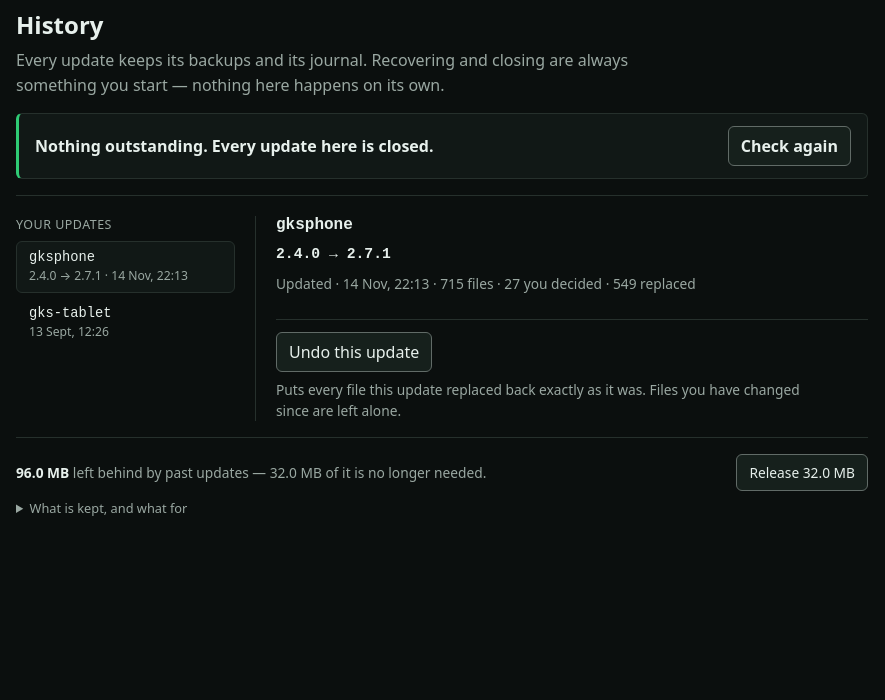
Test: the history screen › reconciles a lost Undo response and never retries the mutation automatically
Click the button "Undo this update" at (354,352), box x1=276 y1=332 x2=432 y2=372
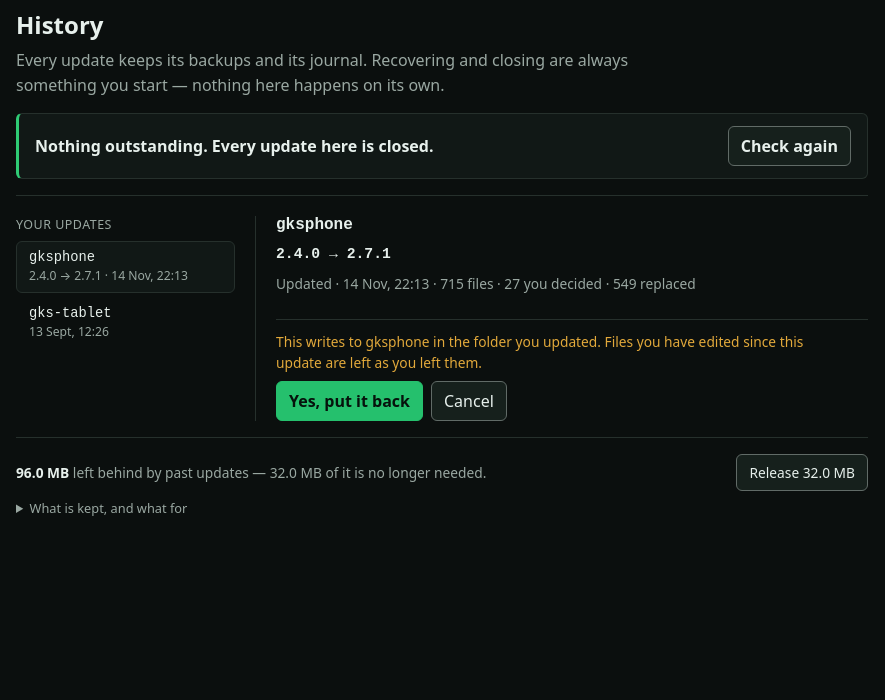
Click the button "Yes, put it back" at (350,401), box x1=276 y1=381 x2=423 y2=421
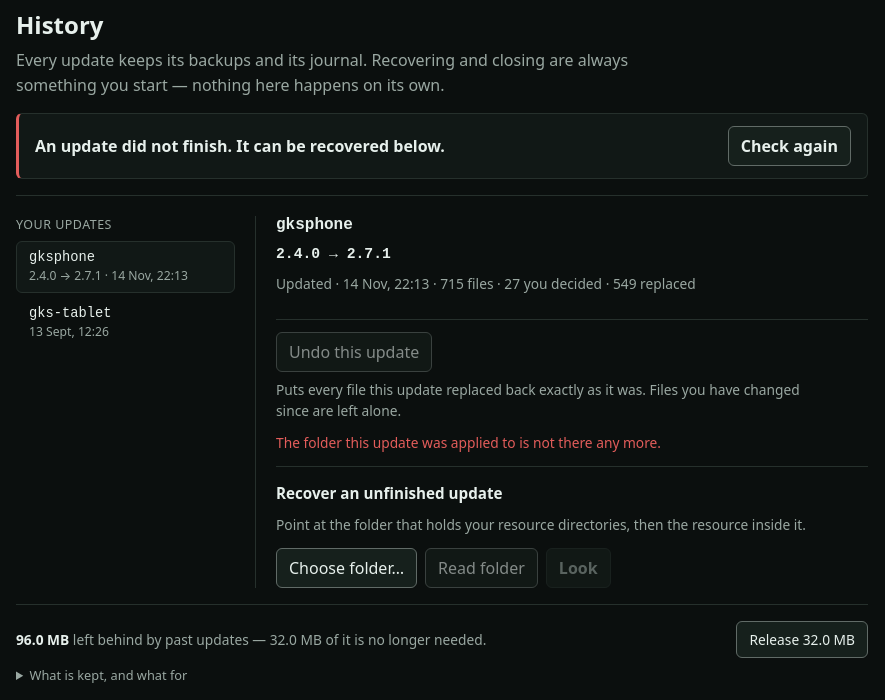
Expected: the button "Undo this update" is disabled, x1=276 y1=332 x2=432 y2=372
